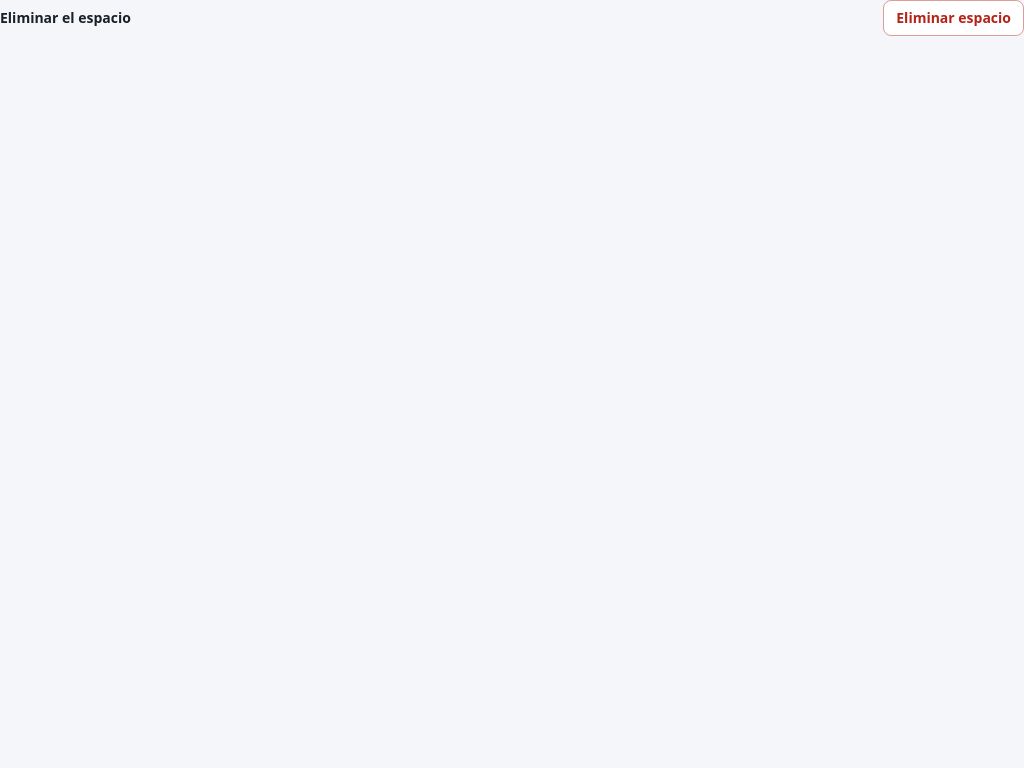
Scenario: 30 ZonaPeligro › no deja confirmar hasta escribir el nombre
Later steps or results of the test are not shown.
Click the button "Eliminar espacio" at point(954, 18), box [883,0,1023,36]
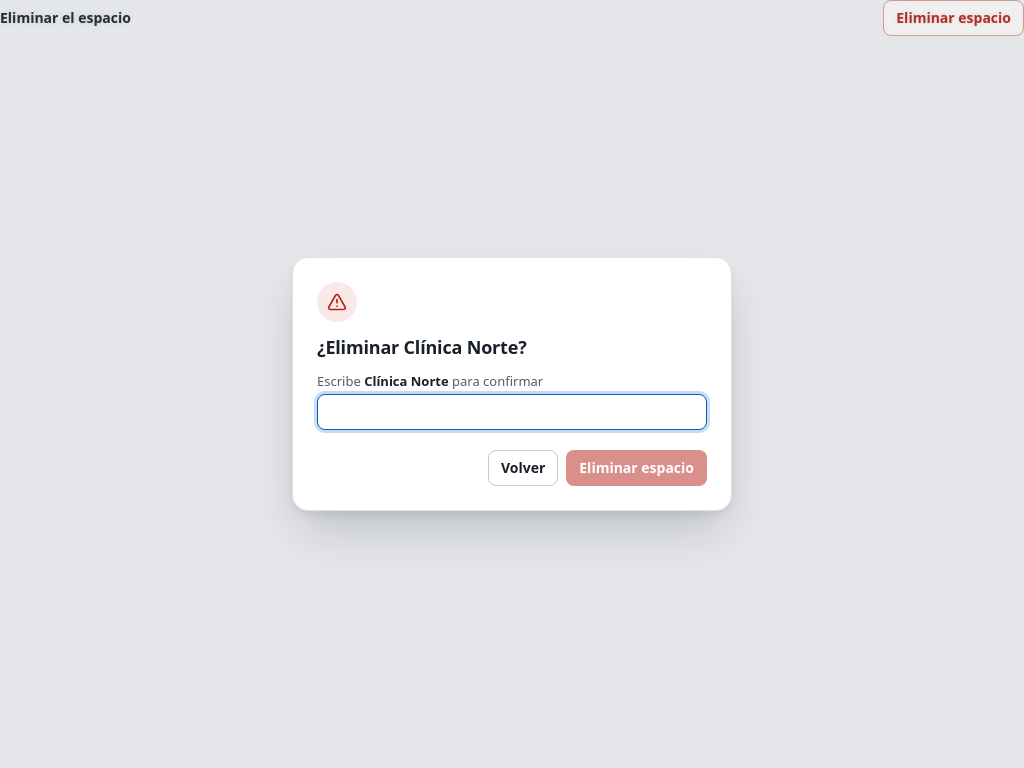
Now the button "Eliminar espacio" below "Escribe" is disabled, box [566,450,707,486]
Type "clinica norte" into the field at point(512, 412), box [317,394,707,430]
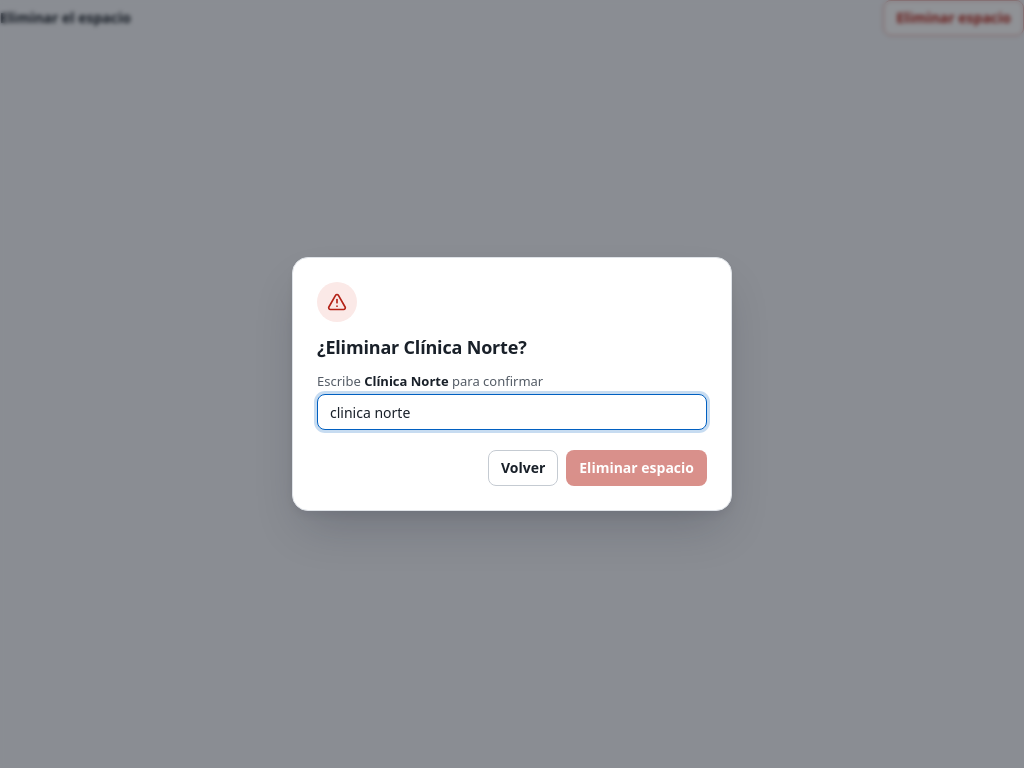
Now the button "Eliminar espacio" below "Escribe" is disabled, box [566,450,707,486]
Replace the text in the field with "Clínica Norte " at point(512, 412), box [317,394,707,430]
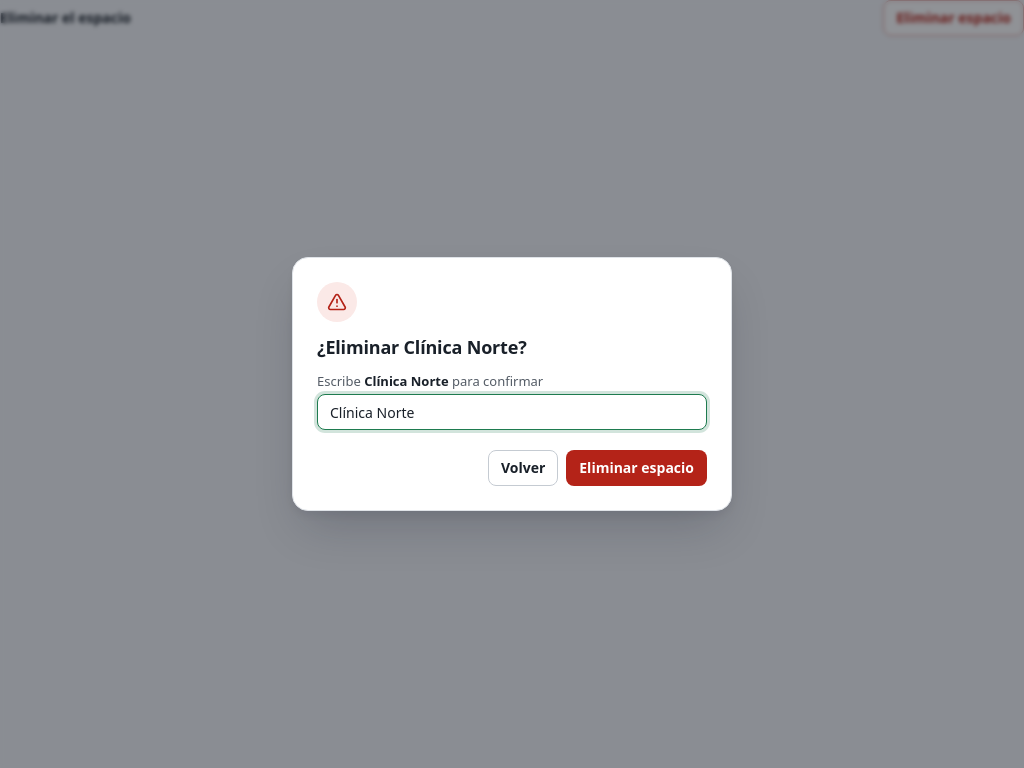
Now the button "Eliminar espacio" below "Escribe" is enabled, box [566,450,707,486]
